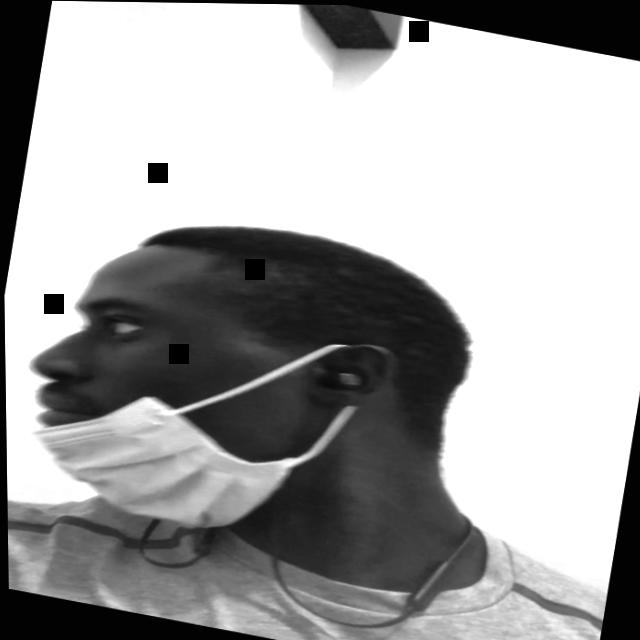NO-Mask: (3, 237, 359, 552)
